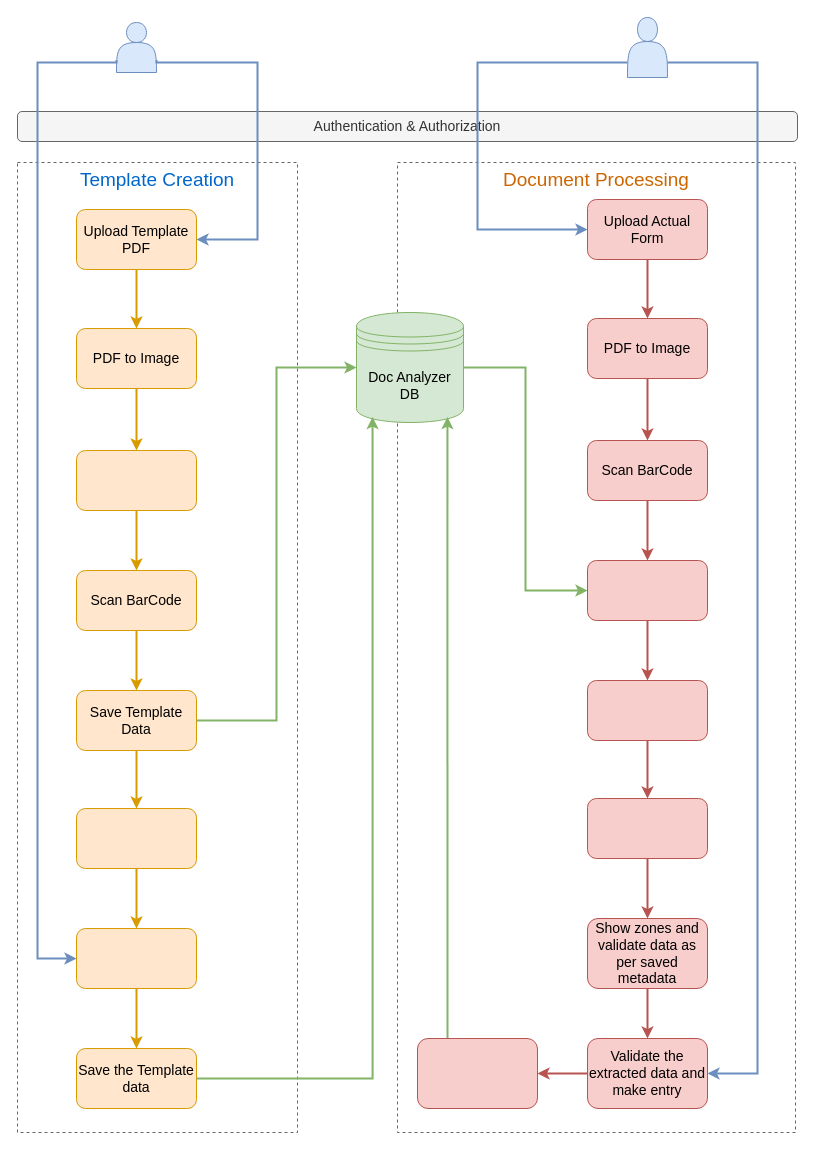
Image size: 815x1150. Some labels were removed from this diagram. The box of each missing label's shape, as (x1, y1, x2, y2) in pixels:
Align Image: (76, 450, 196, 510)
Extract Text from Scanned Form: (586, 680, 708, 740)
Fetch Template data and align image: (586, 560, 708, 620)
Save final data: (416, 1038, 538, 1108)
Select the zones and provide the metadata: (76, 928, 196, 988)
Show Image to UI for zoning labelling: (76, 808, 196, 868)
Show Scanned and Digital Form in UI: (586, 798, 708, 858)
